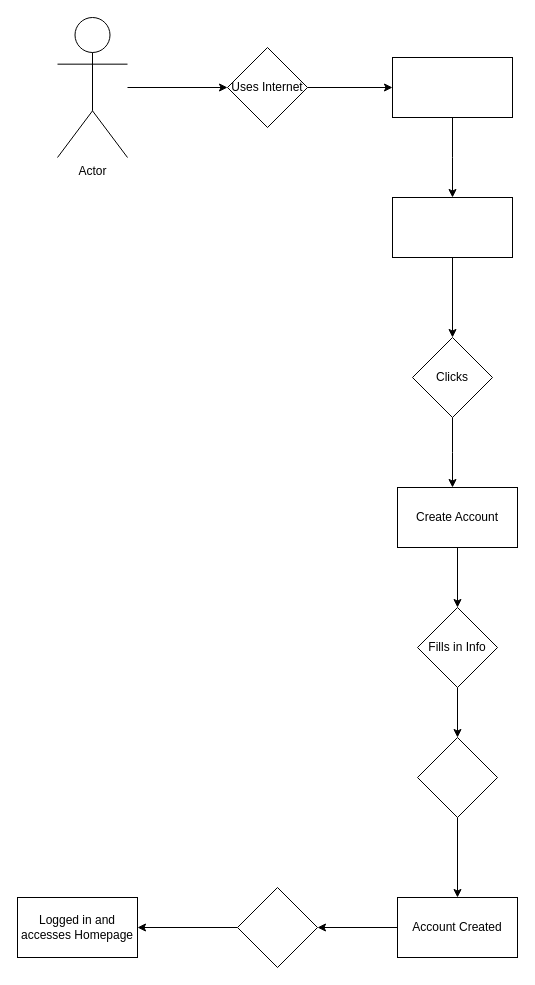
Some shapes in this 535 by 985 pixel diagram are drawn without their labels. The shapes that lost their labels are listed below. From the top down, each one's box as (x1, y1, x2, y2) in pixels, then its label:
(392, 56, 512, 118): Accesses Y
(392, 196, 512, 258): Welcome Page
(416, 736, 498, 818): Clicks Submit
(236, 886, 318, 968): Logs In
